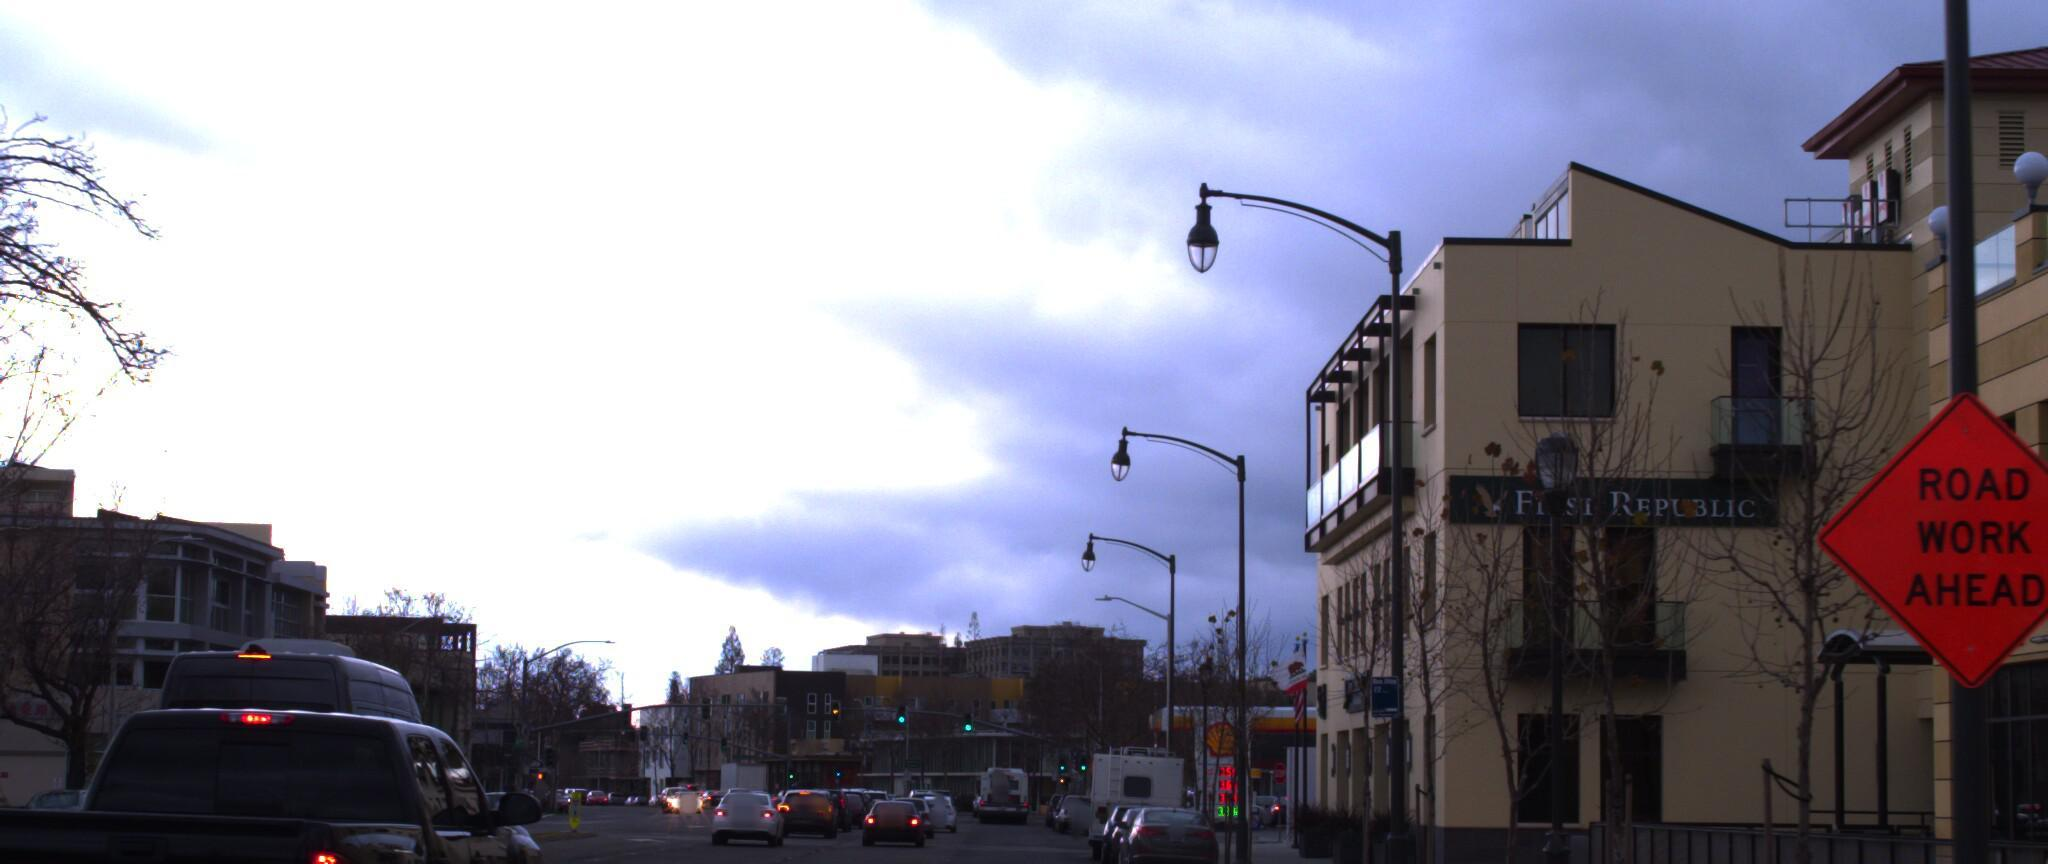car: (125, 595, 483, 864), (1115, 780, 1226, 863), (714, 760, 794, 814)
other_vehicle: (1088, 724, 1194, 844)
